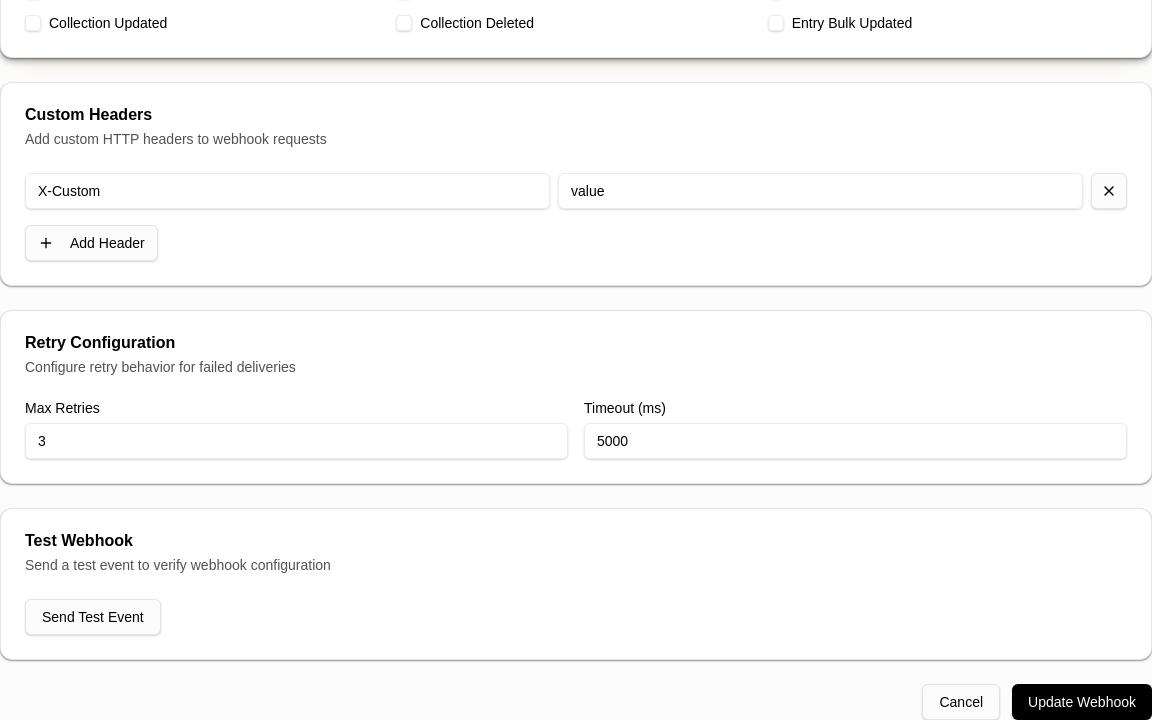
Test: WebhookForm › shows test delivery result on success
(page scrolled)
Click the button "Send Test Event". click: (93, 617)
box: [25,599,161,635]
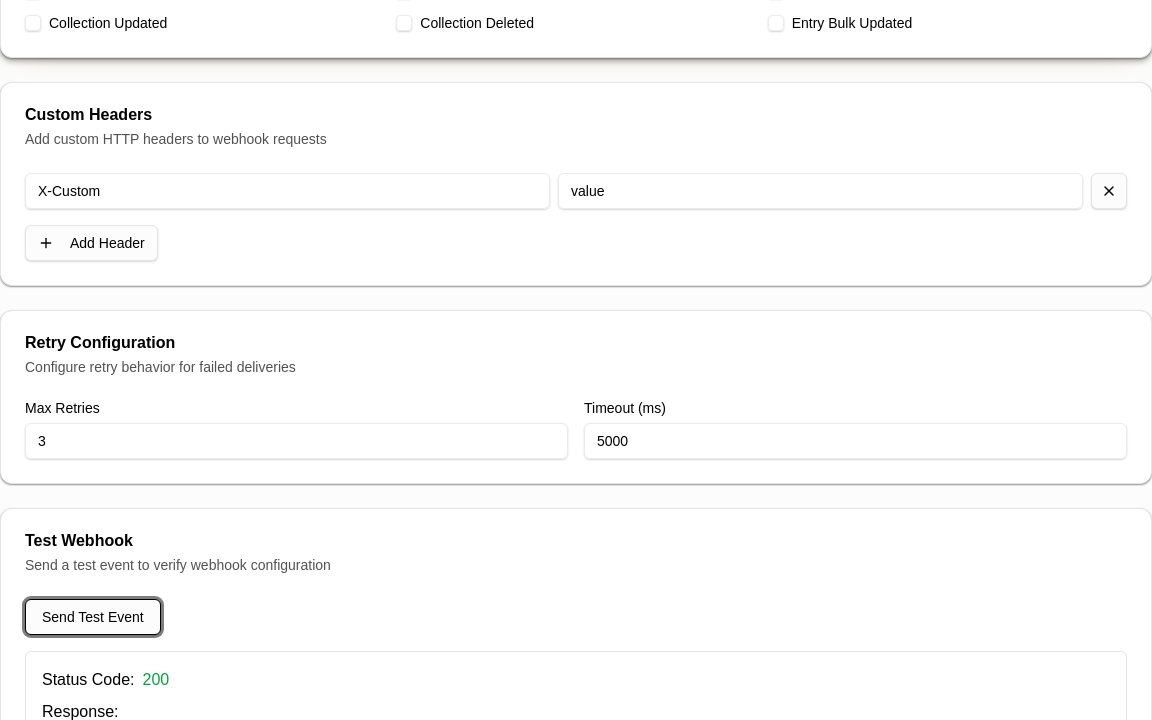
expect the text "Status Code:" is shown: met, box [42,668,134,692]
expect the text "200" is shown: met, box [142,668,169,692]
expect the text "Response:" is shown: met, box [42,703,118,719]
